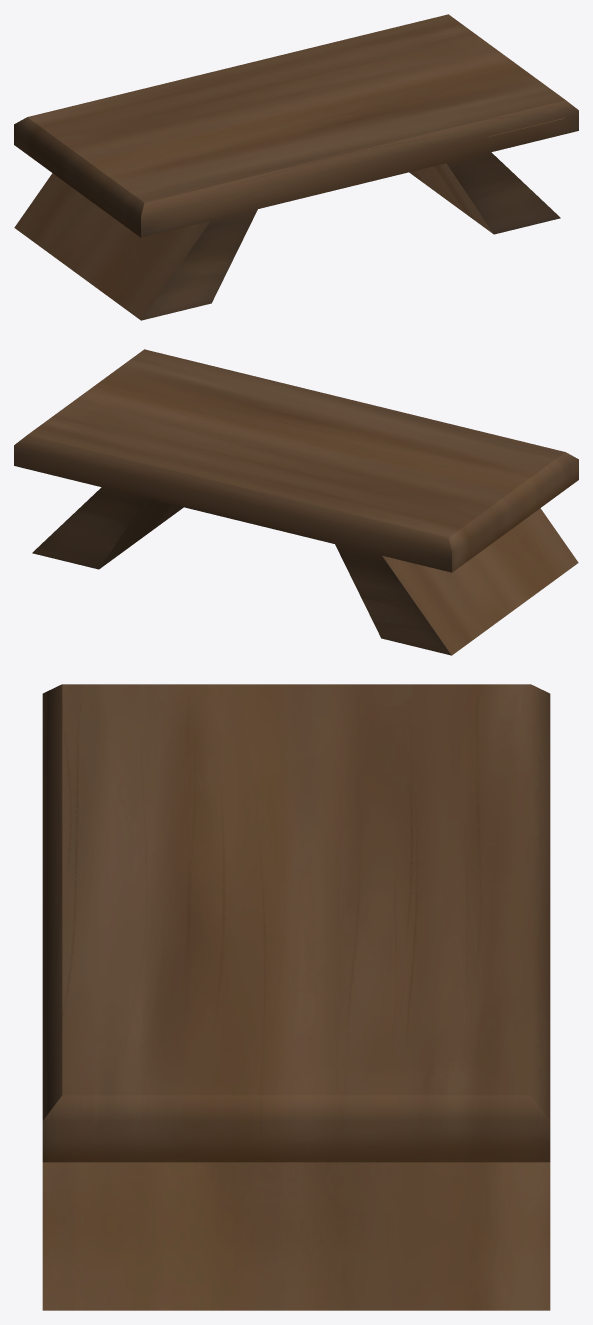
File: table.gltf
The picture shows the model from 3 angles, top to bottom: view 1: azimuth 30°, elevation 25°; view 2: azimuth 150°, elevation 25°; view 3: azimuth 270°, elevation 25°; orthographic projection. The views are drawn at different scales.
Parts seen in each view (by area): view 1: Object_9; view 2: Object_9; view 3: Object_9.
Boxes of the visible parts, bbox=[...] form: Object_9: bbox=[14, 14, 578, 320]; Object_9: bbox=[14, 349, 578, 655]; Object_9: bbox=[42, 684, 550, 1310].
Bounding box in the file's own units: 205 × 50.08 × 103.
Materials: 1 (1 with a texture image).
